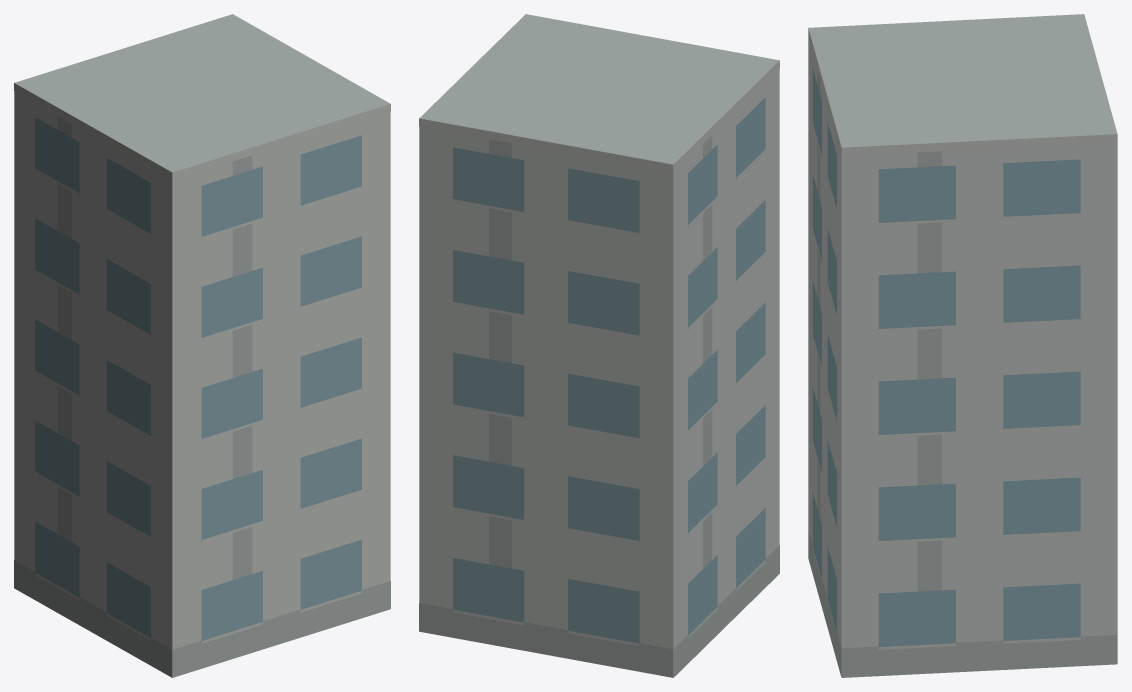
The model's file is residential-d7cf7743-54e6-4bc6-b282-aaf637ce0875.glb.
The picture shows the model from 3 angles, left to right: view 1: azimuth 30°, elevation 25°; view 2: azimuth 150°, elevation 25°; view 3: azimuth 270°, elevation 25°; orthographic projection. The views are drawn at different scales.
Visible parts, largest first — view 1: residential-d7cf7743-54e6-4bc6-b282-aaf637ce0875.tmp; view 2: residential-d7cf7743-54e6-4bc6-b282-aaf637ce0875.tmp; view 3: residential-d7cf7743-54e6-4bc6-b282-aaf637ce0875.tmp.
Boxes of the visible parts, x1,y1,x2,y2 form: residential-d7cf7743-54e6-4bc6-b282-aaf637ce0875.tmp: (14, 14, 390, 677); residential-d7cf7743-54e6-4bc6-b282-aaf637ce0875.tmp: (419, 14, 779, 677); residential-d7cf7743-54e6-4bc6-b282-aaf637ce0875.tmp: (808, 14, 1117, 677).
Bounding box in the file's own units: 8.25 × 15.25 × 8.07.
